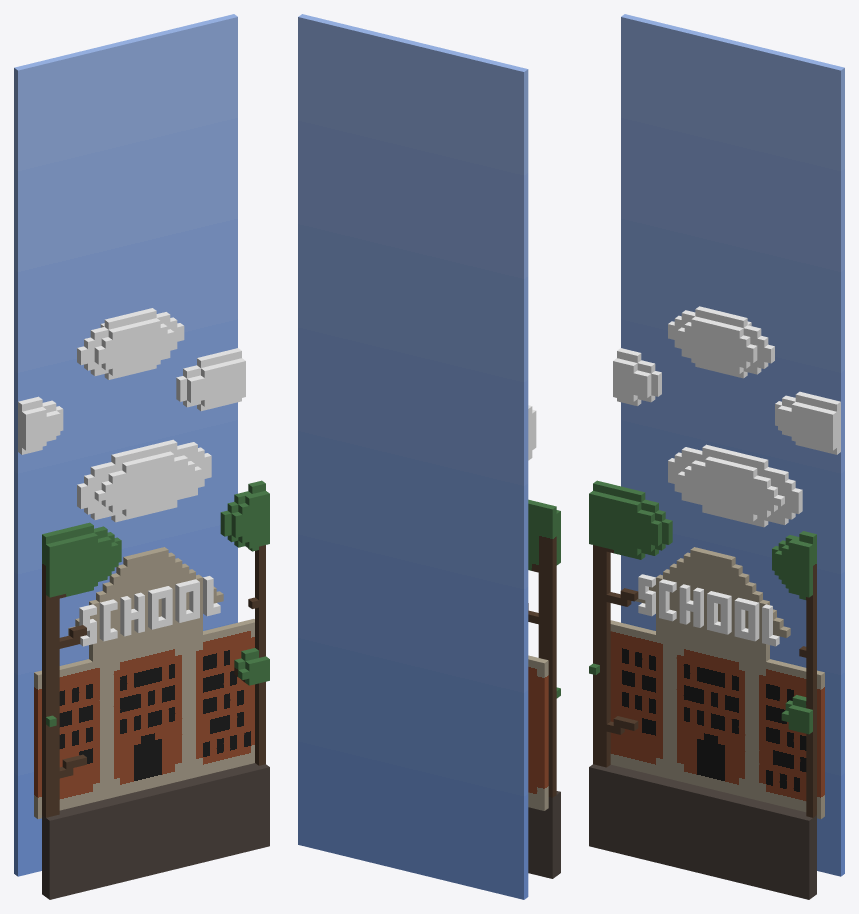
The model's file is scene_school.glb.
3 views of the same model, side by side, from view 1: azimuth 30°, elevation 25°; view 2: azimuth 150°, elevation 25°; view 3: azimuth 330°, elevation 25° (orthographic). The views are drawn at different scales.
Parts seen in each view (by area): view 1: scene_school_100, scene_school_99, scene_school_98, scene_school_97; view 2: scene_school_100, scene_school_98, scene_school_99; view 3: scene_school_100, scene_school_99, scene_school_98, scene_school_97.
Boxes of the visible parts, bbox=[...] form: scene_school_100: bbox=[14, 14, 237, 876]; scene_school_99: bbox=[34, 547, 254, 818]; scene_school_98: bbox=[42, 480, 269, 899]; scene_school_97: bbox=[18, 308, 245, 522]; scene_school_100: bbox=[298, 14, 528, 899]; scene_school_98: bbox=[528, 499, 560, 878]; scene_school_99: bbox=[528, 655, 548, 810]; scene_school_100: bbox=[621, 14, 844, 876]; scene_school_99: bbox=[610, 547, 824, 818]; scene_school_98: bbox=[589, 480, 816, 899]; scene_school_97: bbox=[613, 306, 840, 527].
Bounding box in the file's own units: 3.2 × 11.2 × 0.9.
1 material, 1 textured.
